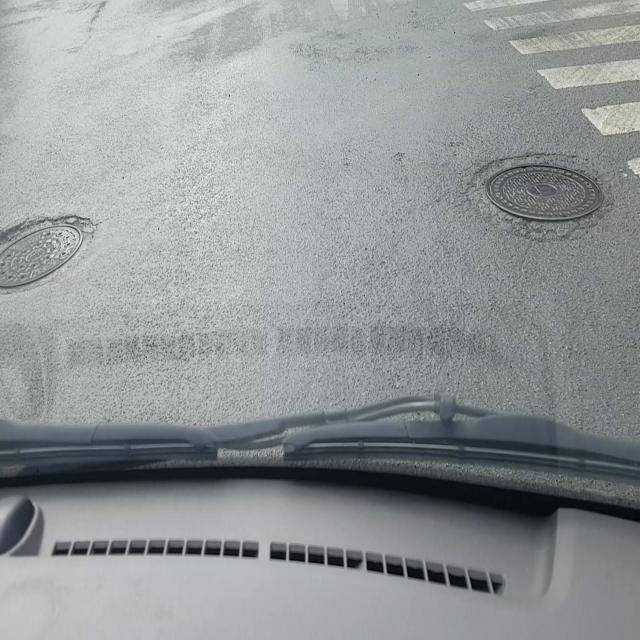Pothole: (0, 209, 98, 297)
